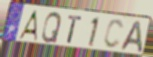1: (87, 16, 101, 48)
A: (118, 20, 144, 55), (17, 10, 38, 42)
C: (102, 19, 125, 51)
Q: (40, 11, 62, 44)
T: (66, 14, 84, 45)
